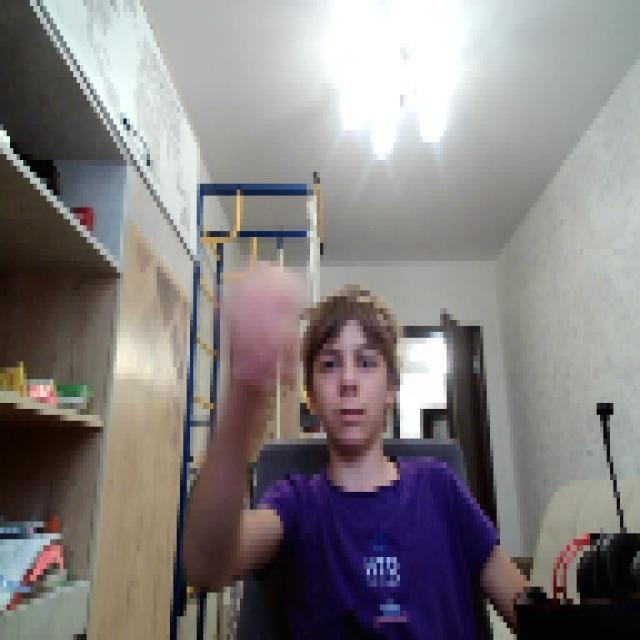left_click: (214, 249, 304, 379)
